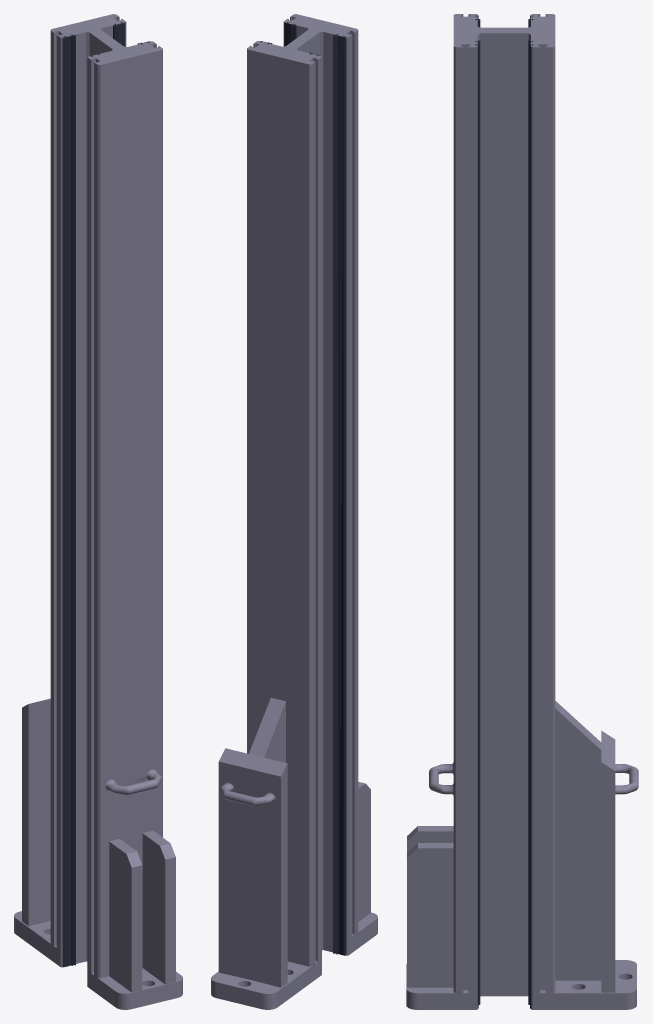
The model's file is MS100K-T10_joinMesh.fbx.
3 views of the same model, side by side, from view 1: azimuth 30°, elevation 25°; view 2: azimuth 150°, elevation 25°; view 3: azimuth 270°, elevation 25° (orthographic). The views are drawn at different scales.
Visible parts, largest first — view 1: Balken; view 2: Balken; view 3: Balken.
Boxes of the visible parts, bbox=[...] form: Balken: bbox=[14, 14, 182, 1009]; Balken: bbox=[211, 14, 377, 1009]; Balken: bbox=[406, 14, 638, 1009].
Bounding box in the file's own units: 17 × 230 × 50.36.
